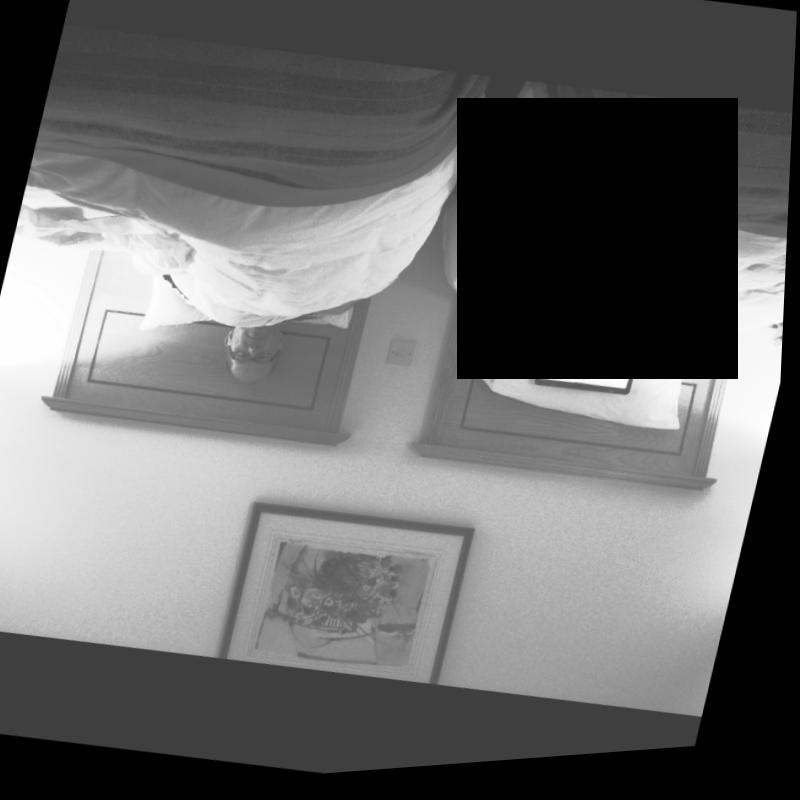pillow: (462, 295, 709, 453), (140, 262, 366, 372)
